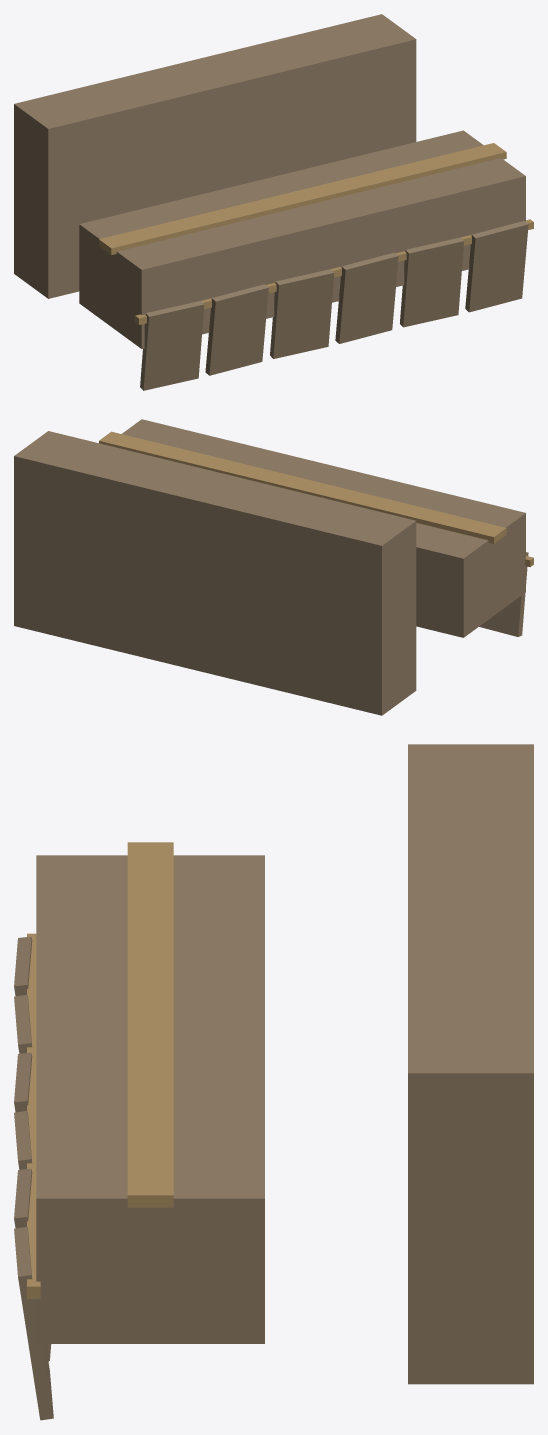
The model's file is Stand_Abdeckung.fbx.
3 views of the same model, one above another, from view 1: azimuth 30°, elevation 25°; view 2: azimuth 150°, elevation 25°; view 3: azimuth 270°, elevation 25° (orthographic). The views are drawn at different scales.
Parts seen in each view (by area): view 1: Stand_Abdeckung; view 2: Stand_Abdeckung; view 3: Stand_Abdeckung.
Part boxes in pixels (x1,y1,x2,y2): Stand_Abdeckung: (14,14,533,390); Stand_Abdeckung: (14,419,533,715); Stand_Abdeckung: (14,744,533,1420).
Size of the model in its own units: 3.65 by 1.65 by 2.27.
